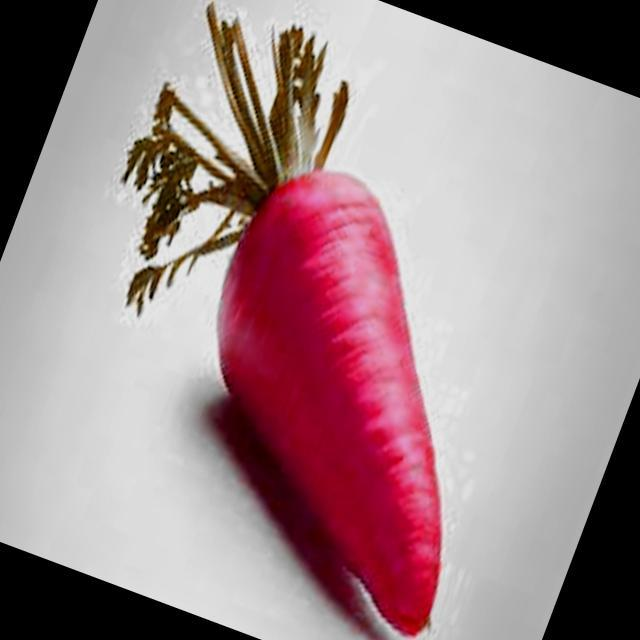carrot: (124, 4, 441, 634)
